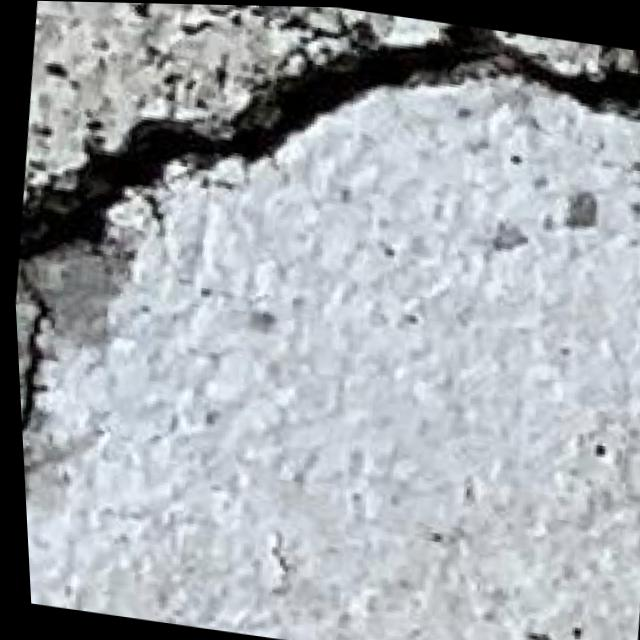Crack: (0, 0, 640, 583)
